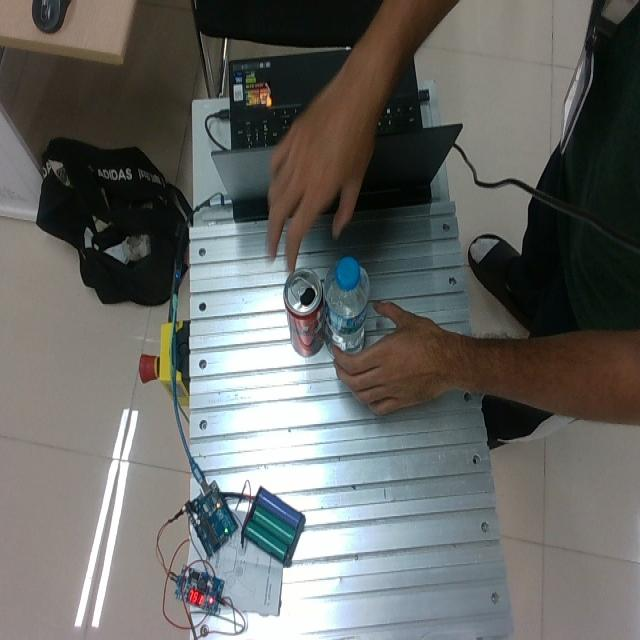coca: (283, 266, 326, 358)
lavie: (323, 257, 370, 355)
